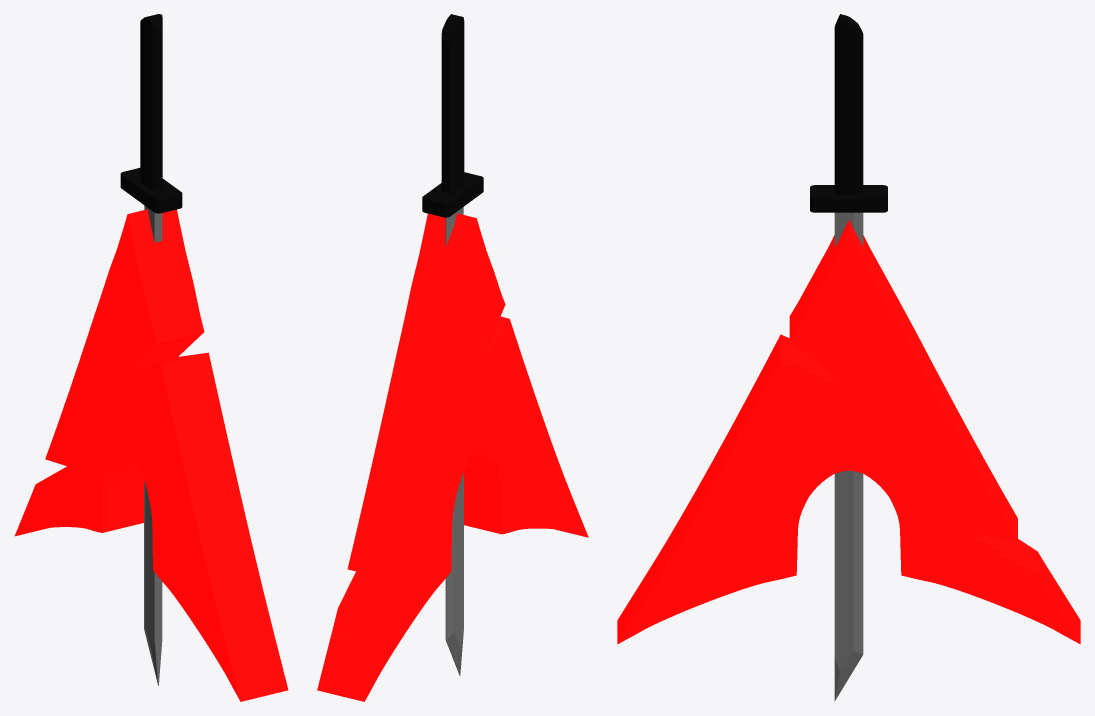
The model's file is red.fbx.
3 views of the same model, side by side, from view 1: azimuth 30°, elevation 25°; view 2: azimuth 150°, elevation 25°; view 3: azimuth 270°, elevation 25° (orthographic). The views are drawn at different scales.
Visible parts, largest first — view 1: Cube; view 2: Cube; view 3: Cube.
Boxes of the visible parts, left/top/right/bottom form: Cube: left=15, top=14, right=288, bottom=701; Cube: left=317, top=14, right=588, bottom=701; Cube: left=617, top=14, right=1080, bottom=701.
Size of the model in its own units: 327 by 41.05 by 533.
